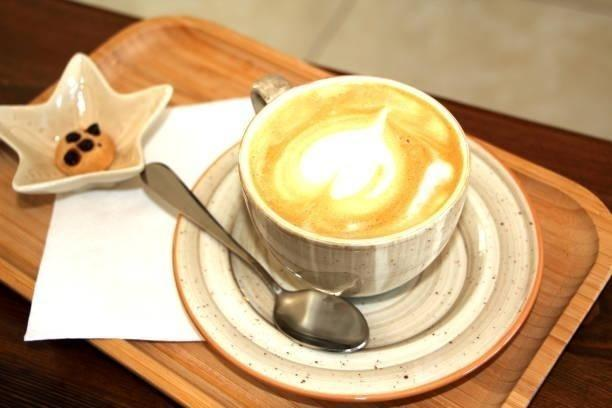cup-handle: (237, 72, 473, 303)
